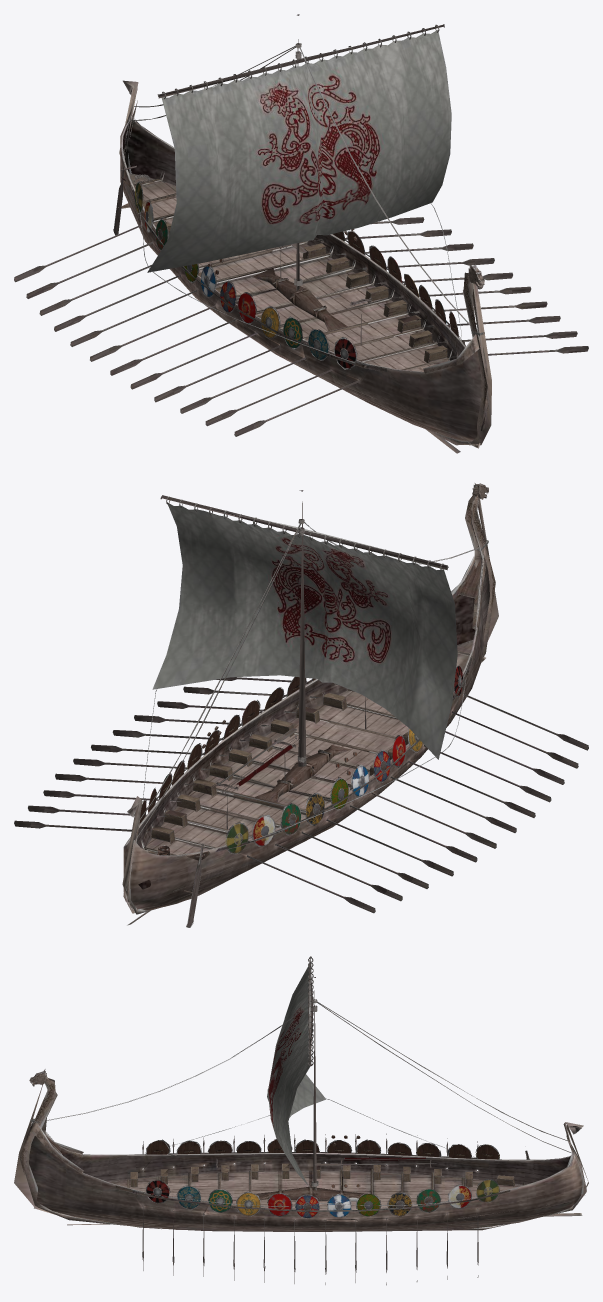
File: warship.glb
3 renders of one model, top to bottom at view 1: azimuth 30°, elevation 25°; view 2: azimuth 150°, elevation 25°; view 3: azimuth 270°, elevation 25°, orthographic. The views are drawn at different scales.
Parts seen in each view (by area): view 1: defaultMaterial.081, defaultMaterial.106, defaultMaterial.105, defaultMaterial.064, defaultMaterial.104, defaultMaterial.065, defaultMaterial.082, defaultMaterial.004, defaultMaterial.094, defaultMaterial.093, defaultMaterial.085, defaultMaterial.095 (+3 smaller); view 2: defaultMaterial.081, defaultMaterial.106, defaultMaterial.105, defaultMaterial.104, defaultMaterial.064, defaultMaterial.082, defaultMaterial.065, defaultMaterial.083, defaultMaterial.004, defaultMaterial.066, defaultMaterial.087, defaultMaterial.091 (+6 smaller); view 3: defaultMaterial.106, defaultMaterial.105, defaultMaterial.081, defaultMaterial.104, defaultMaterial.004, defaultMaterial.065, defaultMaterial.089, defaultMaterial.091, defaultMaterial.087, defaultMaterial.088, defaultMaterial.095, defaultMaterial.096 (+10 smaller).
Part boxes in pixels (x1,y1,x2,y2): defaultMaterial.081: (147,30,451,272); defaultMaterial.106: (120,117,488,441); defaultMaterial.105: (129,173,449,371); defaultMaterial.064: (133,172,452,370); defaultMaterial.104: (119,80,491,453); defaultMaterial.065: (252,268,347,331); defaultMaterial.082: (157,24,444,98); defaultMaterial.004: (132,190,465,372); defaultMaterial.094: (238,256,401,324); defaultMaterial.093: (220,245,386,312); defaultMaterial.085: (308,299,446,360); defaultMaterial.095: (261,274,419,338); defaultMaterial.081: (152,503,457,759); defaultMaterial.106: (123,556,489,911); defaultMaterial.105: (146,639,473,891); defaultMaterial.104: (122,487,498,925); defaultMaterial.064: (141,651,470,855); defaultMaterial.082: (160,495,448,570); defaultMaterial.065: (255,745,350,802); defaultMaterial.083: (298,490,306,766); defaultMaterial.004: (146,657,471,852); defaultMaterial.066: (451,559,481,629); defaultMaterial.087: (139,799,248,854); defaultMaterial.091: (187,743,348,810); defaultMaterial.106: (24,1122,582,1231); defaultMaterial.105: (37,1170,547,1225); defaultMaterial.081: (267,961,326,1198); defaultMaterial.104: (14,1074,588,1230); defaultMaterial.004: (115,1151,510,1211); defaultMaterial.065: (254,1186,367,1201); defaultMaterial.089: (416,1143,441,1212); defaultMaterial.091: (356,1139,381,1216); defaultMaterial.087: (475,1144,499,1202); defaultMaterial.088: (447,1144,471,1208); defaultMaterial.095: (236,1141,261,1216); defaultMaterial.096: (207,1140,232,1212).
Bounding box in the file's own units: 4.6 × 3.56 × 7.31.
13 materials, 13 textured.
